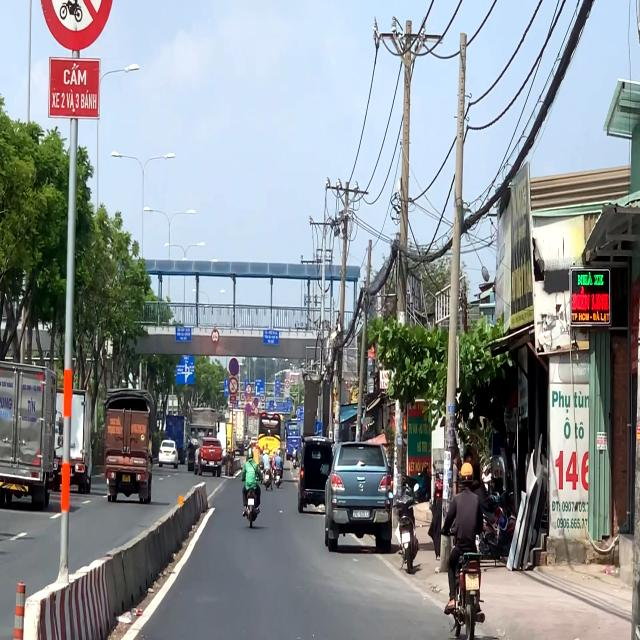P.117: (212, 329, 220, 344)
P.130: (229, 358, 239, 376)
